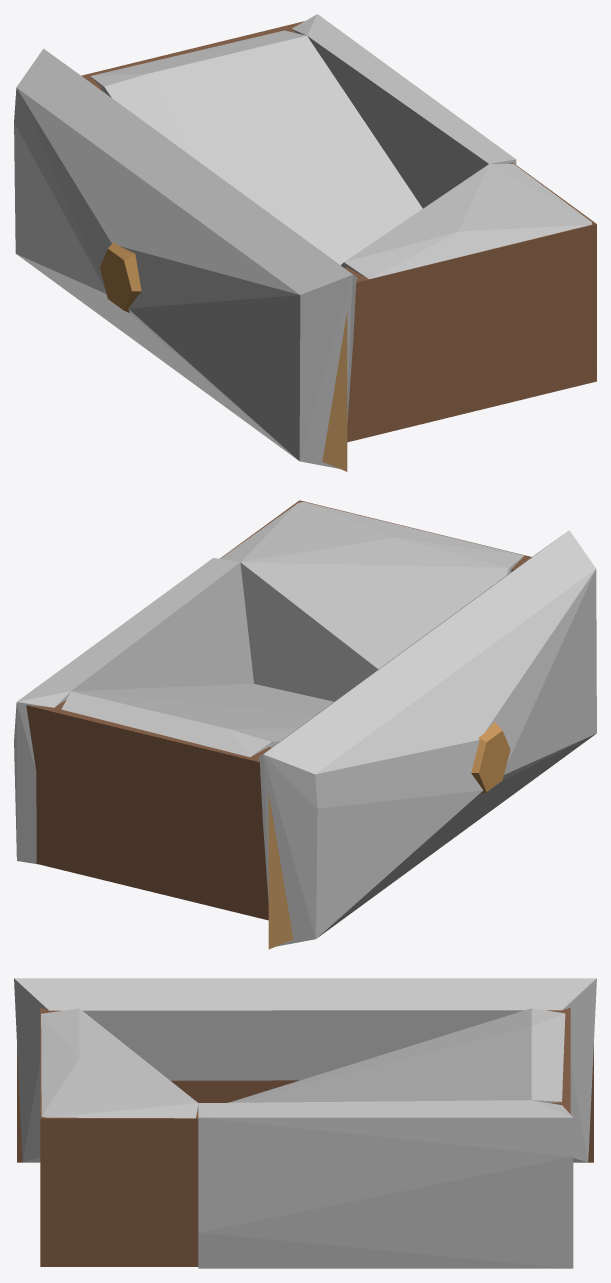
Rendered from SM_Prop_Desk_02_Drawer_02.fbx.
3 views of the same model, one above another, from view 1: azimuth 30°, elevation 25°; view 2: azimuth 150°, elevation 25°; view 3: azimuth 270°, elevation 25° (orthographic). The views are drawn at different scales.
Visible parts, largest first — view 1: SM_Prop_Desk_02_Drawer_02_ConvexHulls, SM_Prop_Desk_02_Drawer_02; view 2: SM_Prop_Desk_02_Drawer_02_ConvexHulls, SM_Prop_Desk_02_Drawer_02; view 3: SM_Prop_Desk_02_Drawer_02_ConvexHulls, SM_Prop_Desk_02_Drawer_02.
Boxes of the visible parts, bbox=[...] form: SM_Prop_Desk_02_Drawer_02_ConvexHulls: bbox=[14, 14, 591, 468]; SM_Prop_Desk_02_Drawer_02: bbox=[81, 21, 596, 471]; SM_Prop_Desk_02_Drawer_02_ConvexHulls: bbox=[14, 502, 596, 946]; SM_Prop_Desk_02_Drawer_02: bbox=[26, 500, 531, 949]; SM_Prop_Desk_02_Drawer_02_ConvexHulls: bbox=[14, 978, 596, 1268]; SM_Prop_Desk_02_Drawer_02: bbox=[17, 1007, 593, 1266].
Size of the model in its own units: 33.36 by 51.81 by 18.26.
Materials: 2 (1 with a texture image).
